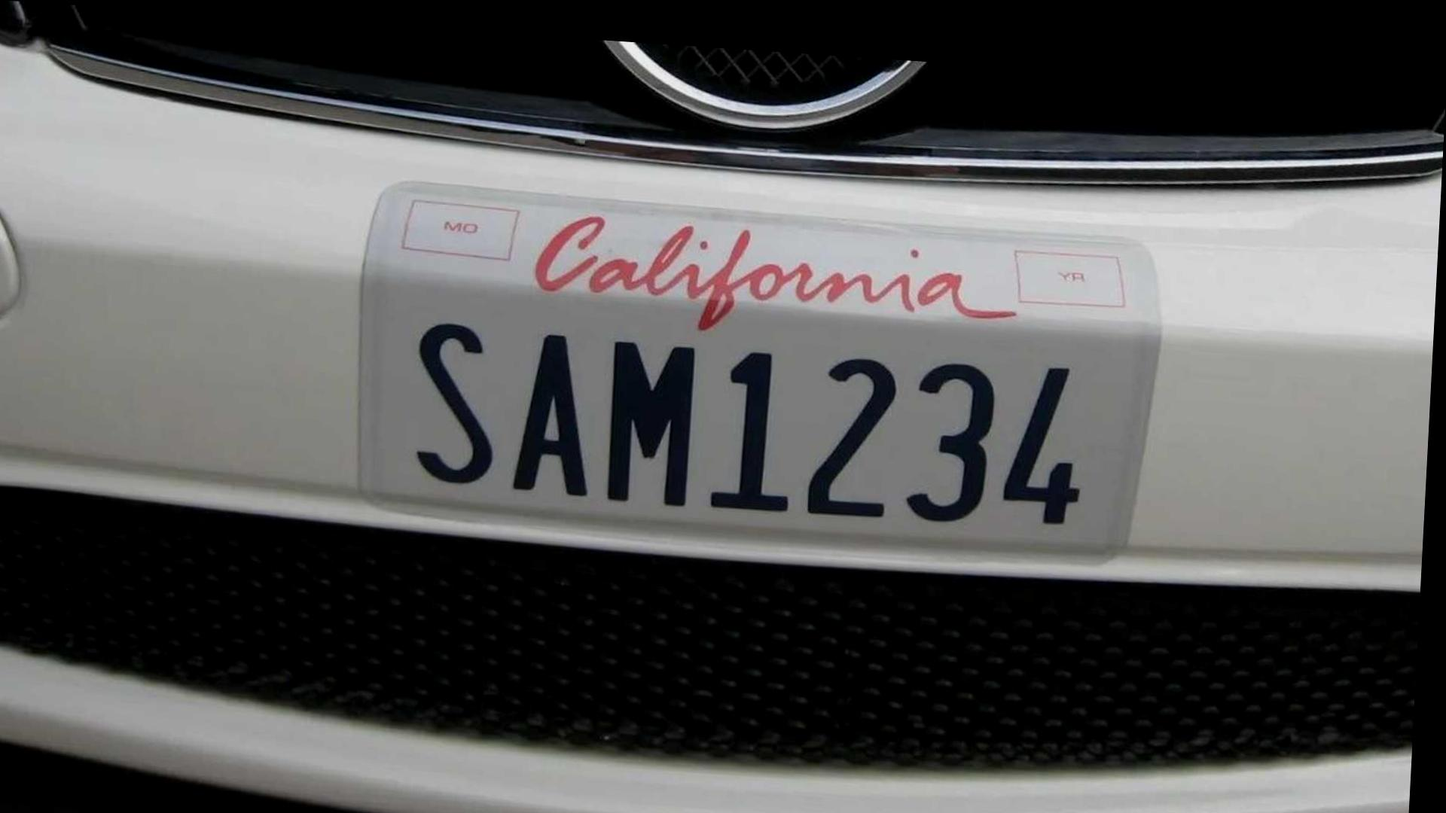License_Plate: (336, 170, 1170, 562)
